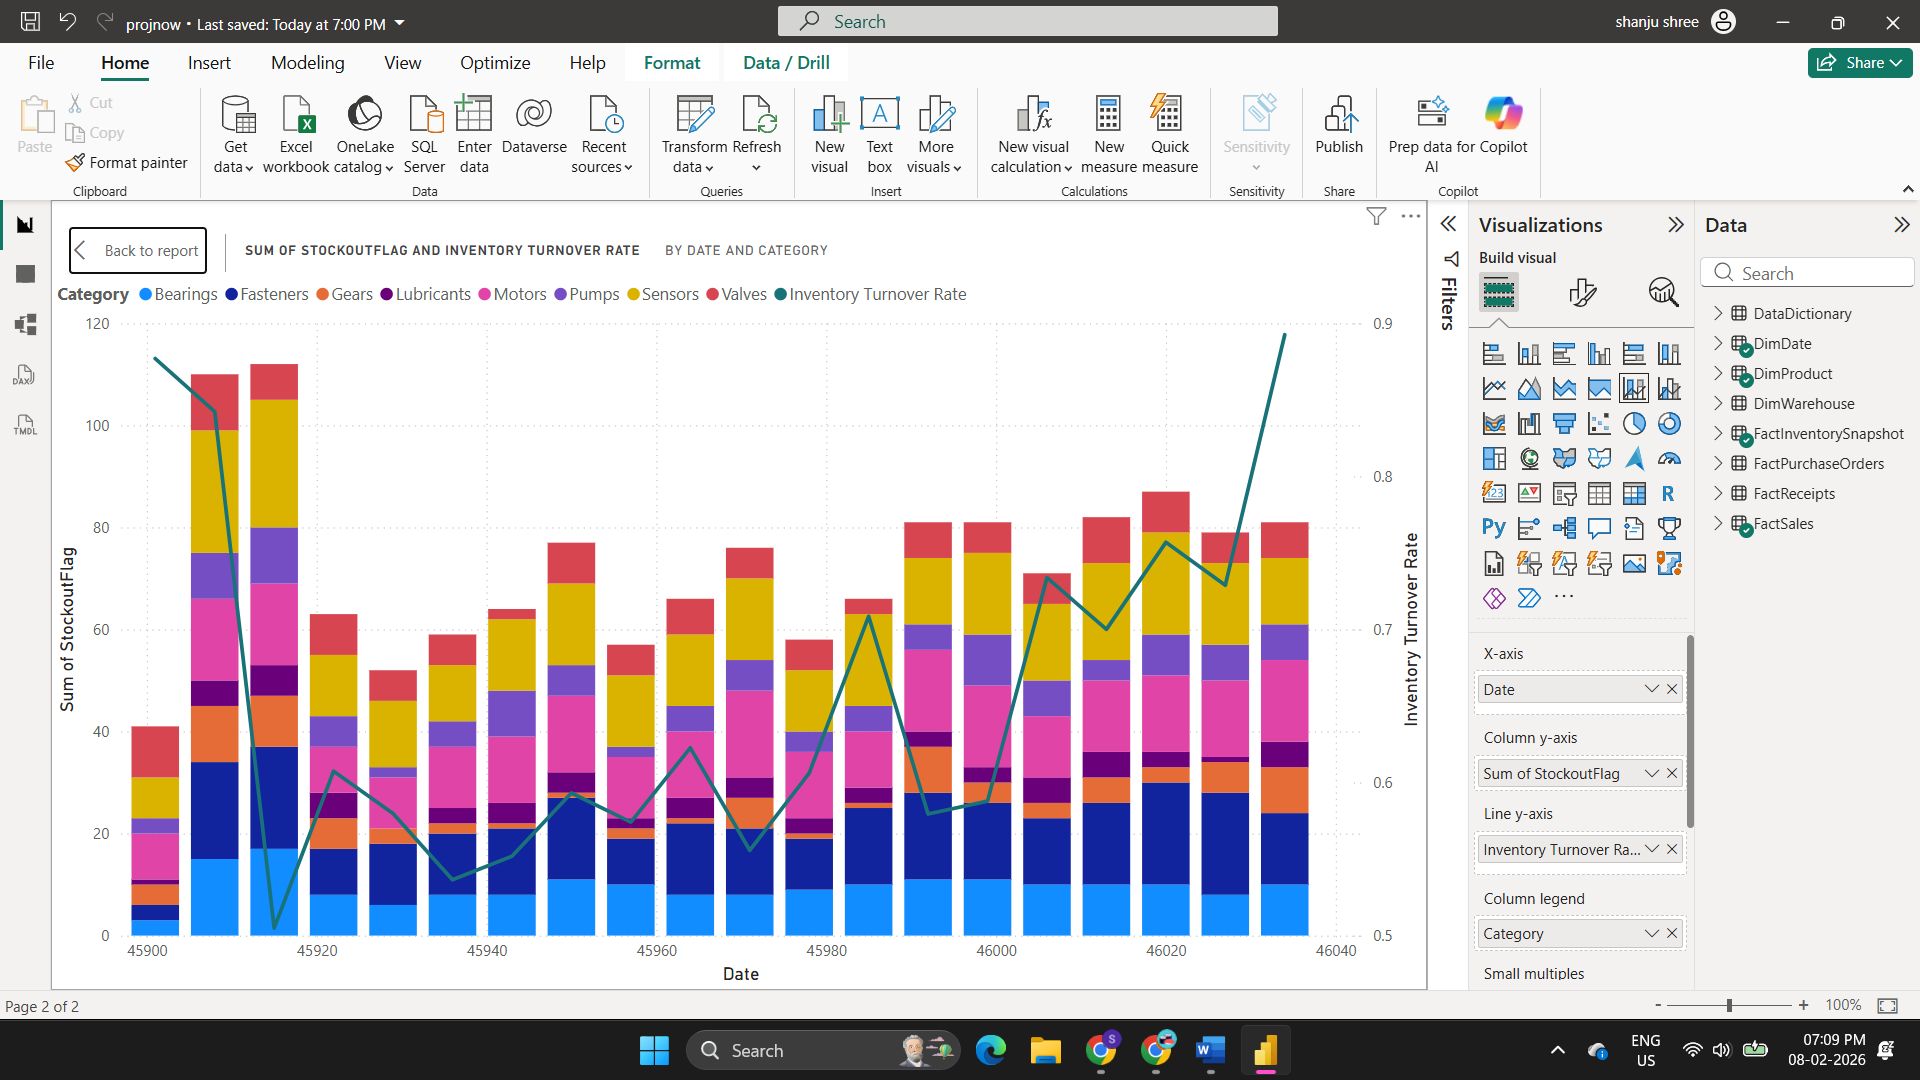

The page's visual inventory and layout, read from the dashboard file:
{"tool":"powerbi","page":{"name":"Page 2","canvas":[1280,720],"ordinal":1},"visuals":[{"type":"lineChart","fields":{"Category":["DimDate.Month","DimDate.Year"],"Y":["FactSales.Inventory Turnover Rate"]},"box":[660,213.8,600,161.2],"z":0},{"type":"scatterChart","title":"Slow-Moving Products: Inventory vs Sales","fields":{"X":["FactInventorySnapshot.Average Inventory Value"],"Y":["Sum(FactSales.UnitsSold)"],"Category":["DimProduct.ProductName"],"Series":["FactInventorySnapshot.StockStatus"]},"box":[660,381.2,600,310],"z":1000},{"type":"slicer","fields":{"Values":["DimProduct.Category"]},"box":[146.2,118.8,352.5,73.8],"z":2000},{"type":"lineStackedColumnComboChart","fields":{"Category":["DimDate.Date"],"Y":["Sum(FactInventorySnapshot.StockoutFlag)"],"Series":["DimProduct.Category"],"Y2":["FactSales.Inventory Turnover Rate"]},"box":[18.8,213.8,632.5,477.5],"z":3000},{"type":"textbox","box":[185,0,948.8,101.2],"z":4000},{"type":"actionButton","box":[18.6,118.6,100,74.3],"z":5000}]}

Visuals, with their boxes on the page's 1280x720 design canvas (x1, y1, x2, y2). These are canvas units, not pixel positions in the 1920x1080 screenshot, which may show the page scaled, cropped or inside an application window:
lineChart - DimDate.Month x DimDate.Year: <region>660, 214, 1260, 375</region>
"Slow-Moving Products: Inventory vs Sales" scatterChart: <region>660, 381, 1260, 691</region>
slicer - DimProduct.Category: <region>146, 119, 499, 193</region>
lineStackedColumnComboChart - DimDate.Date x Sum(FactInventorySnapshot.StockoutFlag): <region>19, 214, 651, 691</region>
textbox: <region>185, 0, 1134, 101</region>
actionButton: <region>19, 119, 119, 193</region>
